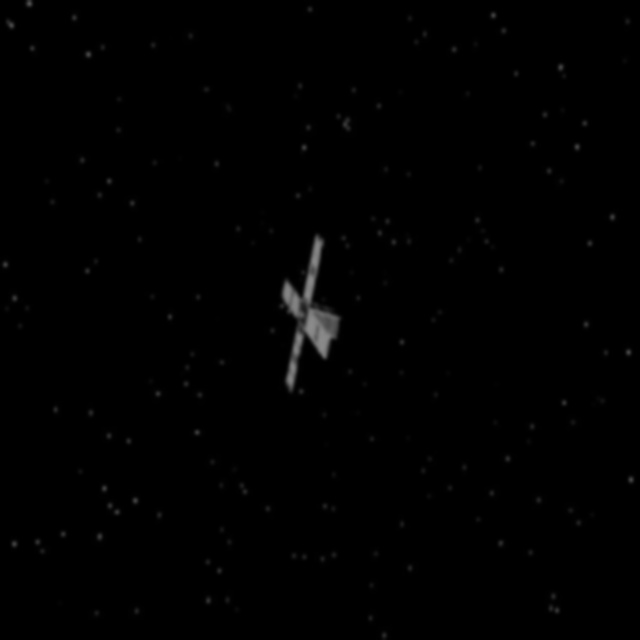medium_debris: (244, 228, 365, 395)
